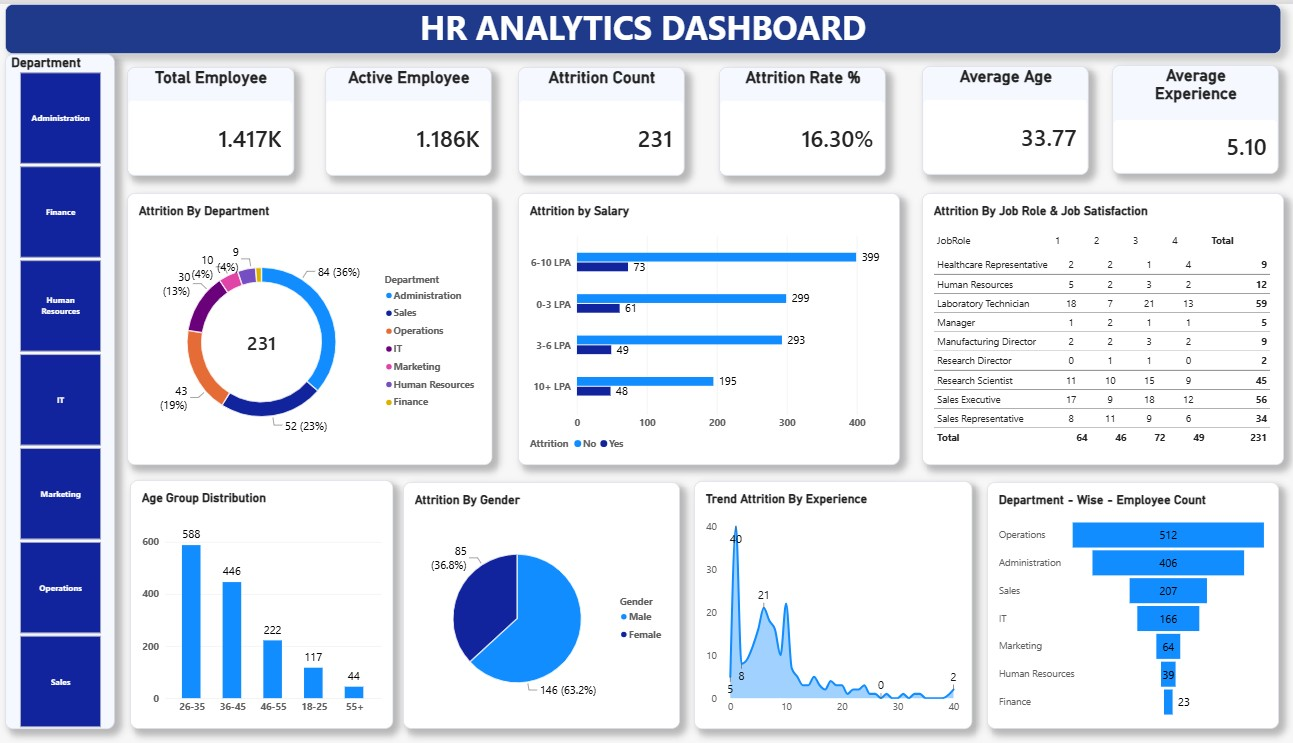

Layout of this report page (visuals, bound fields, positions):
{"tool":"powerbi","page":{"name":"Page 1","canvas":[1920,1080],"ordinal":0},"visuals":[{"type":"textbox","box":[27.7,0,1861.6,72.9],"z":0},{"type":"cardVisual","title":"Total Employee","fields":{"Data":["CountNonNull(HR_Analytics-4.EmpID)"]},"box":[205.7,91.9,243.6,159],"z":1000},{"type":"cardVisual","title":"Active Employee","fields":{"Data":["Sum(HR_Analytics-4.EmployeeCount)"]},"box":[494.6,91.9,243,159],"z":2000},{"type":"cardVisual","title":"Attrition Rate %","fields":{"Data":["HR_Analytics-4.attrition precentage %"]},"box":[1069.4,91.9,243,159],"z":3000},{"type":"cardVisual","title":"Attrition Count","fields":{"Data":["Sum(HR_Analytics-4.Attrition Count)"]},"box":[776.2,91.9,243,159],"z":4000},{"type":"cardVisual","title":"Average Age","fields":{"Data":["Avg(HR_Analytics-4.Age)"]},"box":[1365.6,90.5,243,159],"z":5000},{"type":"cardVisual","title":"Average Experience","fields":{"Data":["Avg(HR_Analytics-4.YearsatCompany)"]},"box":[1642.8,89,243,159],"z":6000},{"type":"donutChart","title":"Attrition By Department","fields":{"Category":["HR_Analytics-4.Department"],"Y":["Sum(HR_Analytics-4.AttritionCount)"]},"box":[205.7,275.7,532.5,396.8],"z":7000},{"type":"clusteredBarChart","title":"Attrition by Salary","fields":{"Category":["HR_Analytics-4.SalarySlab"],"Series":["HR_Analytics-4.Attrition"],"Y":["CountNonNull(HR_Analytics-4.EmpID)"]},"box":[776.2,275.7,557.3,396.8],"z":8000},{"type":"pivotTable","title":"Attrition By Job Role & Job Satisfaction","fields":{"Columns":["HR_Analytics-4.JobSatisfaction"],"Rows":["HR_Analytics-4.JobRole"],"Values":["Sum(HR_Analytics-4.AttritionCount)"]},"box":[1365.6,275.7,528.1,396.8],"z":9000},{"type":"columnChart","title":"Age Group Distribution","fields":{"Category":["HR_Analytics-4.AgeGroup"],"Y":["Sum(HR_Analytics-4.EmployeeCount)"]},"box":[210.1,694.5,383.7,363.3],"z":10000},{"type":"pieChart","title":"Attrition By Gender","fields":{"Category":["HR_Analytics-4.Gender"],"Y":["Sum(HR_Analytics-4.AttritionCount)"]},"box":[608.4,697.4,404.1,360.4],"z":11000},{"type":"areaChart","title":"Trend Attrition By Experience","fields":{"Category":["HR_Analytics-4.TotalExperience(Years)"],"Y":["Sum(HR_Analytics-4.AttritionCount)"]},"box":[1032.9,695.9,405.6,361.8],"z":12000},{"type":"funnel","title":"Department - Wise - Employee Count","fields":{"Category":["HR_Analytics-4.Department"],"Y":["CountNonNull(HR_Analytics-4.EmpID)"]},"box":[1460.4,697.4,426,360.4],"z":13000},{"type":"slicer","fields":{"Values":["HR_Analytics-4.Department"]},"box":[27.7,72.9,160.5,984.8],"z":14000}]}

Visuals, with their boxes in screenshot pixels (x1, y1, x2, y2), scaled from the page's 1920x1080 canvas onto the 1293x743 screenshot:
textbox: Rect(19, 0, 1272, 50)
"Total Employee" cardVisual: Rect(139, 63, 303, 173)
"Active Employee" cardVisual: Rect(333, 63, 497, 173)
"Attrition Rate %" cardVisual: Rect(720, 63, 884, 173)
"Attrition Count" cardVisual: Rect(523, 63, 686, 173)
"Average Age" cardVisual: Rect(920, 62, 1083, 172)
"Average Experience" cardVisual: Rect(1106, 61, 1270, 171)
"Attrition By Department" donutChart: Rect(139, 190, 497, 463)
"Attrition by Salary" clusteredBarChart: Rect(523, 190, 898, 463)
"Attrition By Job Role & Job Satisfaction" pivotTable: Rect(920, 190, 1275, 463)
"Age Group Distribution" columnChart: Rect(141, 478, 400, 728)
"Attrition By Gender" pieChart: Rect(410, 480, 682, 728)
"Trend Attrition By Experience" areaChart: Rect(696, 479, 969, 728)
"Department - Wise - Employee Count" funnel: Rect(983, 480, 1270, 728)
slicer - HR_Analytics-4.Department: Rect(19, 50, 127, 728)
